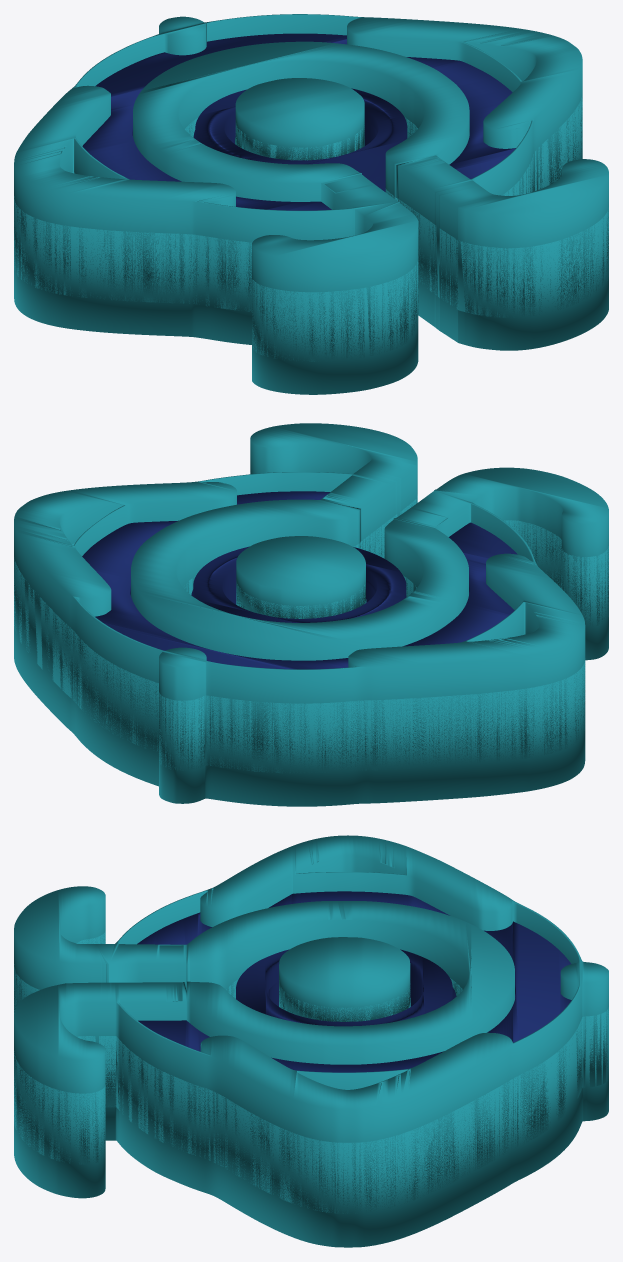
The model's file is navi.glb.
3 renders of one model, top to bottom at view 1: azimuth 30°, elevation 25°; view 2: azimuth 150°, elevation 25°; view 3: azimuth 270°, elevation 25°, orthographic. The views are drawn at different scales.
Visible parts, largest first — view 1: path5, path10, path8, path9; view 2: path5, path10, path8, path9; view 3: path5, path10, path8, path9.
Boxes of the visible parts, box(x1,y1,x2,y2) form: path5: box(14, 14, 608, 394); path10: box(82, 33, 515, 210); path8: box(235, 78, 364, 160); path9: box(193, 88, 407, 191); path5: box(14, 423, 608, 806); path10: box(82, 491, 517, 669); path8: box(236, 536, 366, 618); path9: box(191, 546, 406, 622); path5: box(14, 835, 608, 1247); path10: box(137, 891, 571, 1072); path8: box(279, 937, 410, 1021); path9: box(236, 949, 456, 1026).
Size of the model in its own units: 0.1696 by 0.0438 by 0.1557.
